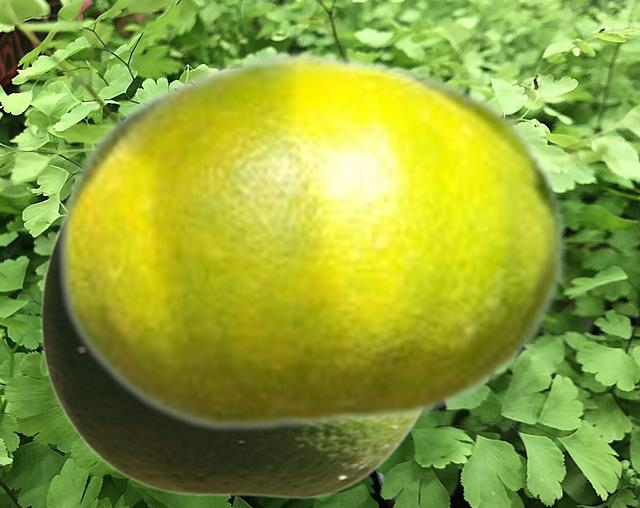dalandan: (55, 49, 565, 433), (39, 226, 422, 498)
